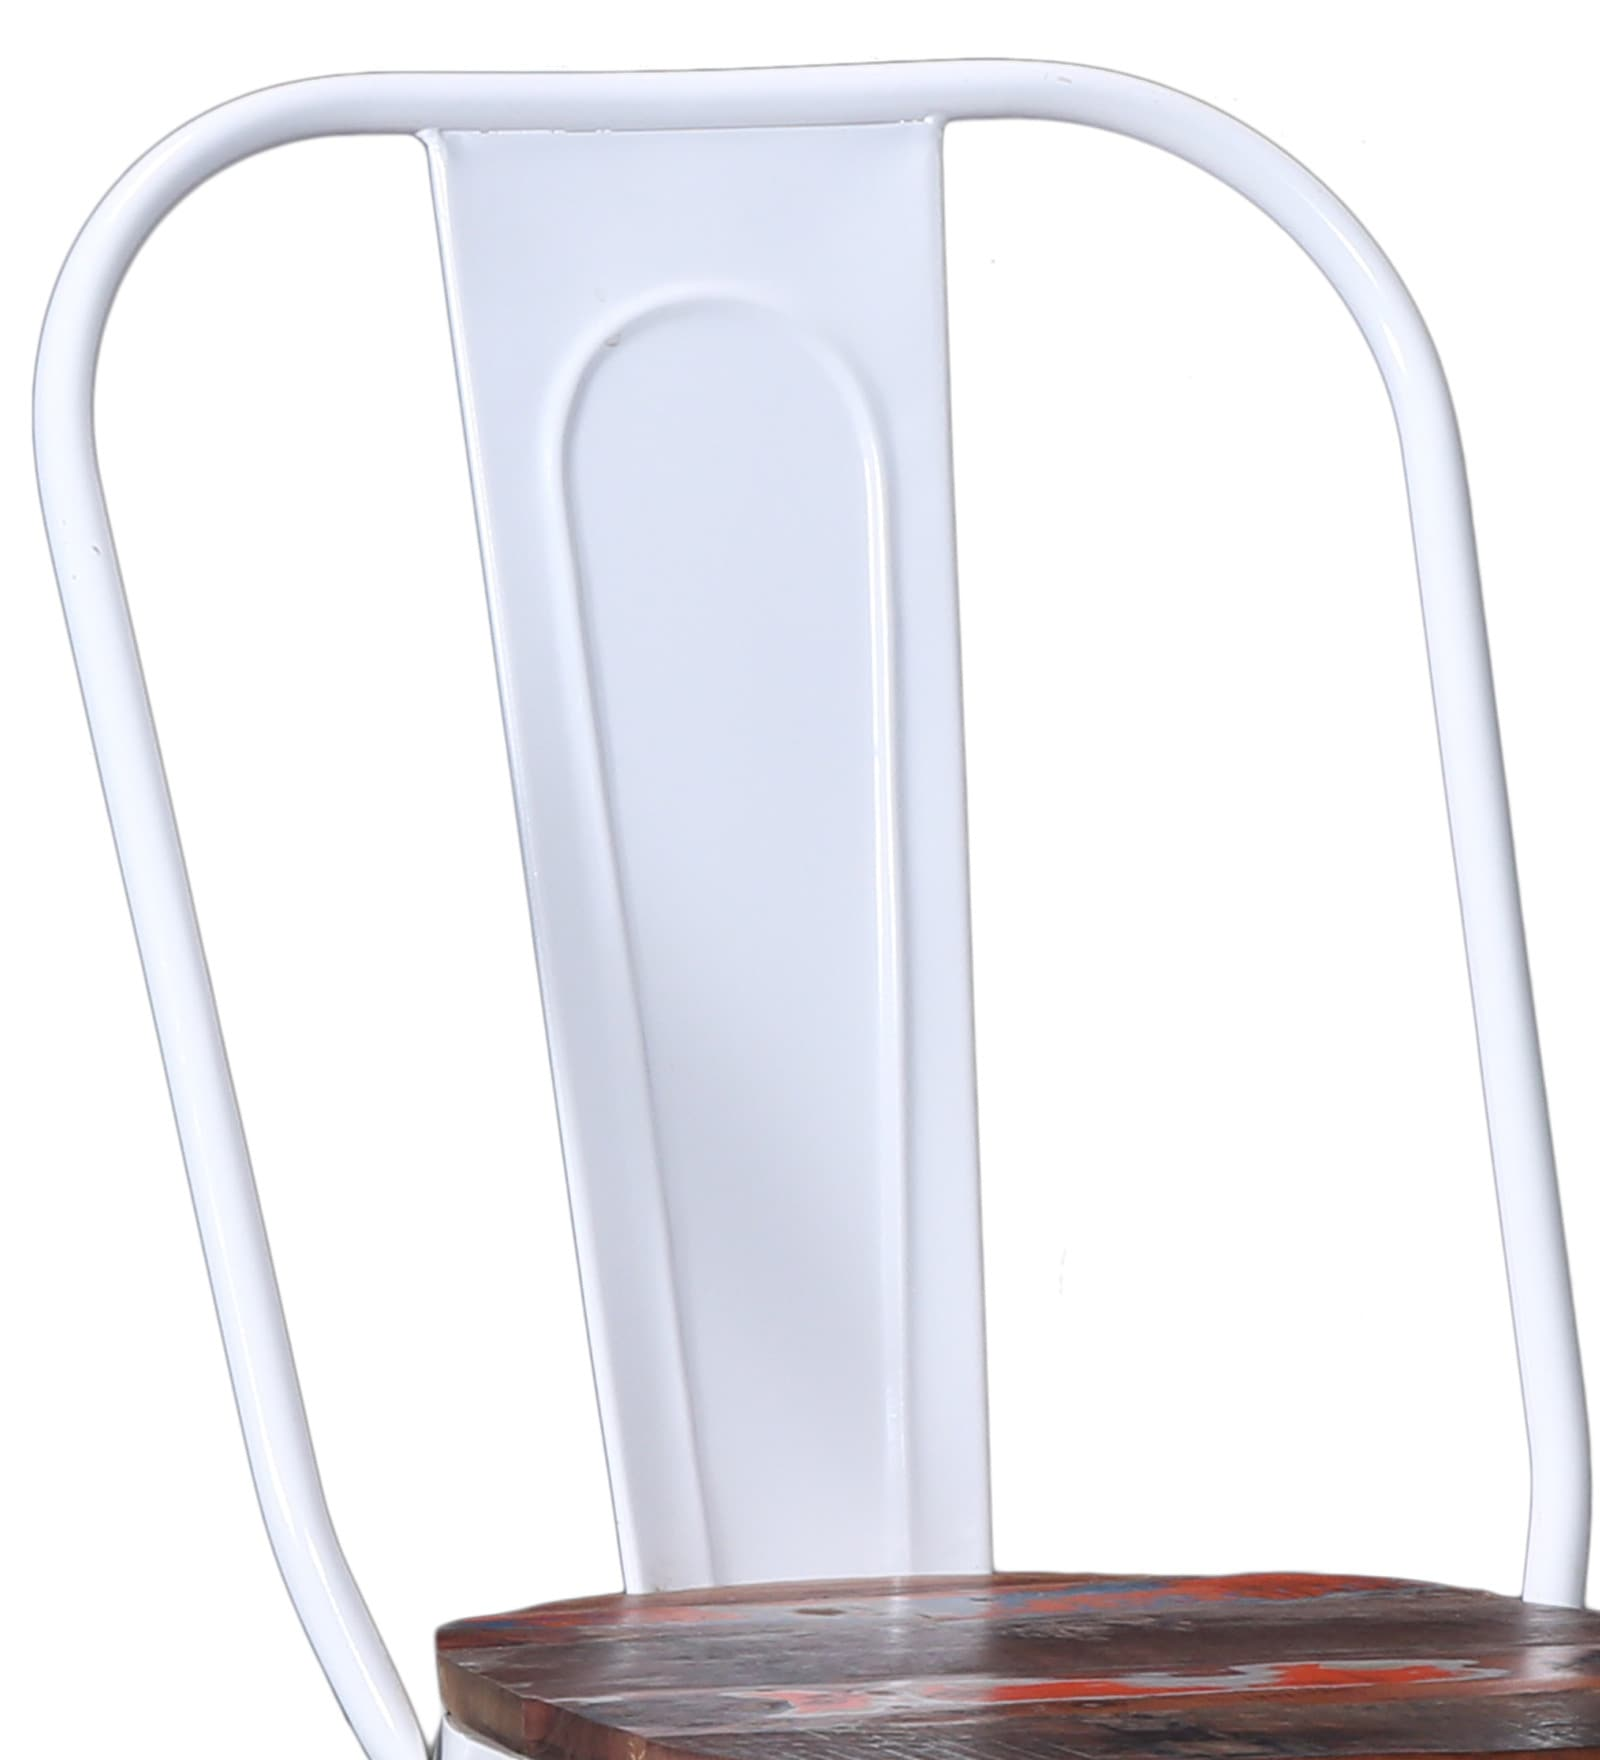Kumtor Metal Chair in Distress White Color with Wooden Seat by Bohemiana: (17, 35, 1600, 1749)
